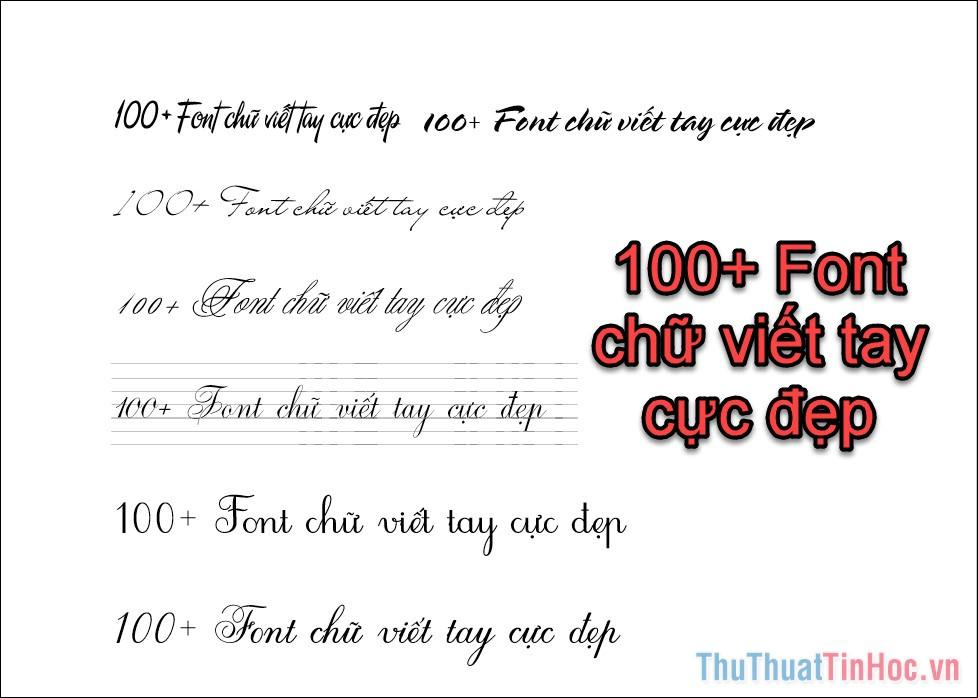text: (108, 94, 819, 153), (113, 487, 631, 562), (113, 596, 625, 670), (587, 298, 933, 384), (113, 270, 527, 336), (113, 380, 551, 442), (106, 182, 528, 234), (612, 234, 911, 302), (637, 383, 881, 455), (691, 642, 963, 690)
